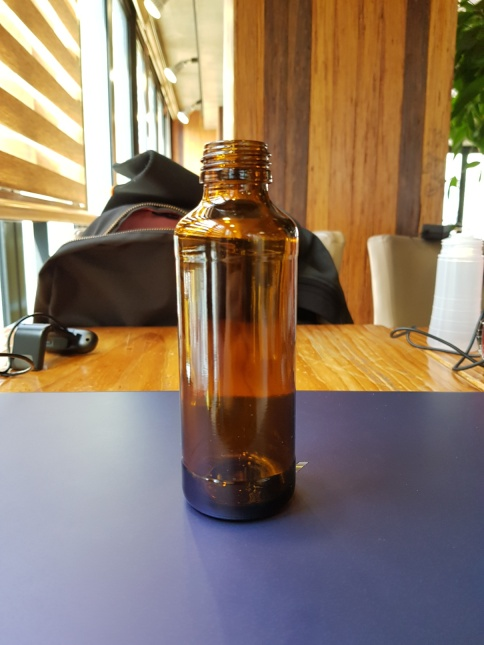Glass: (168, 135, 307, 522)
